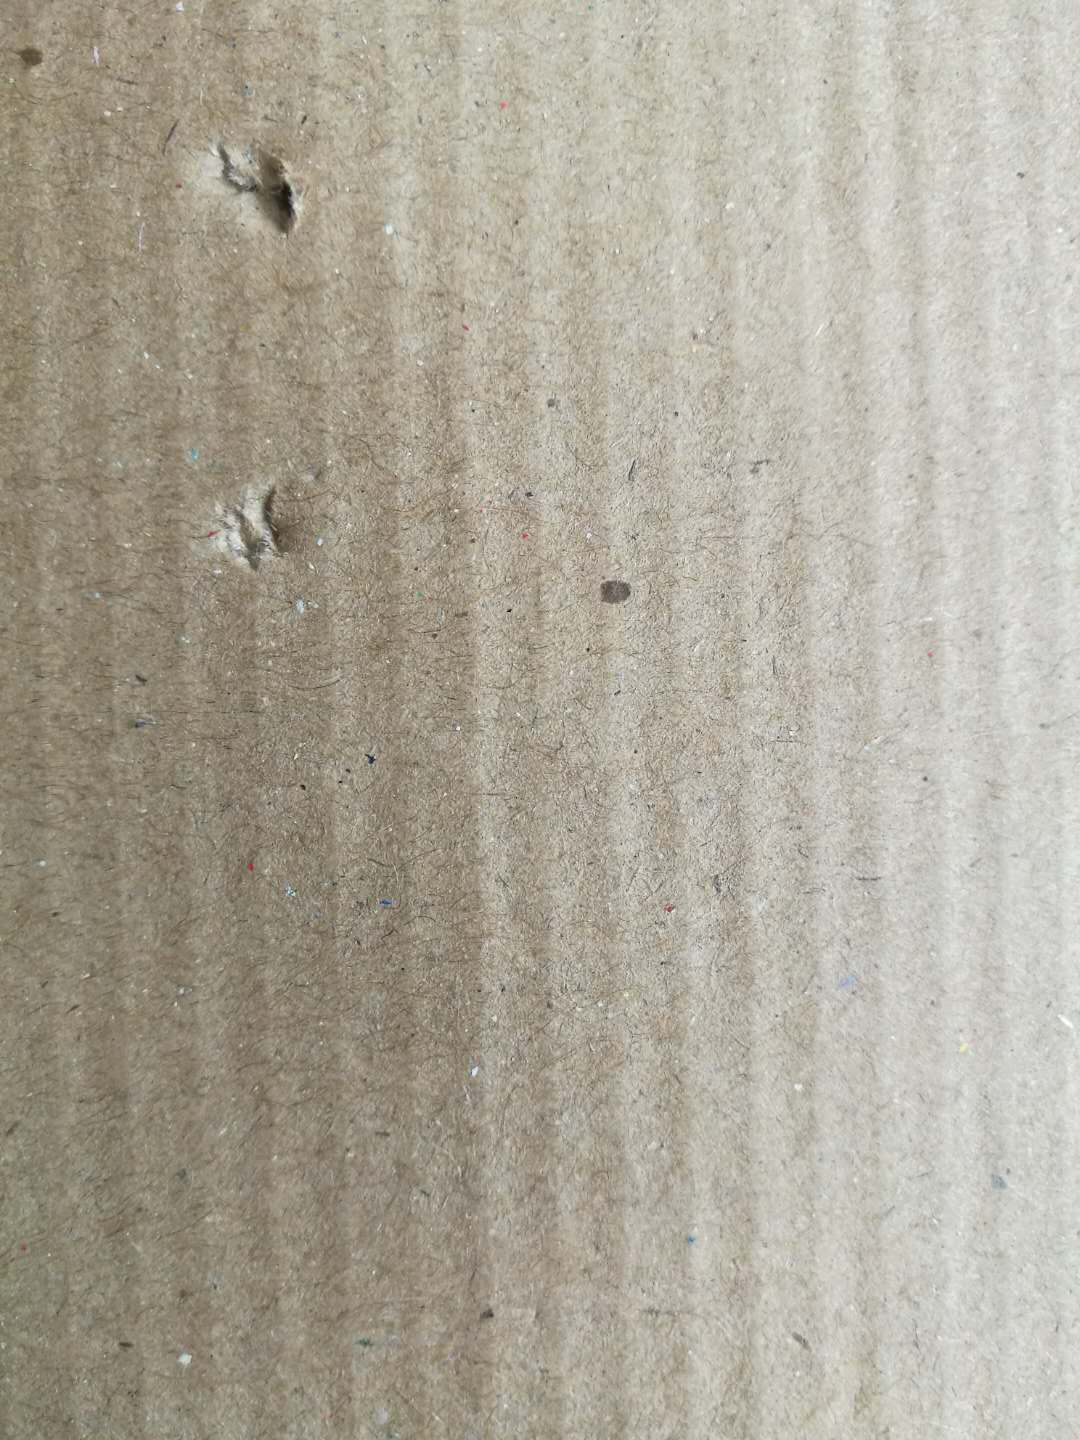defect: (172, 439, 358, 601), (168, 105, 351, 261)
